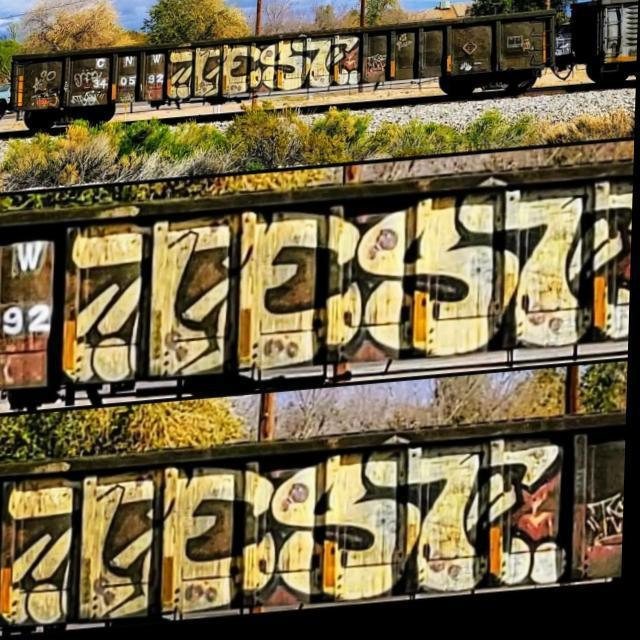nonspitting: (69, 187, 616, 381), (5, 440, 560, 622), (174, 40, 368, 92)
